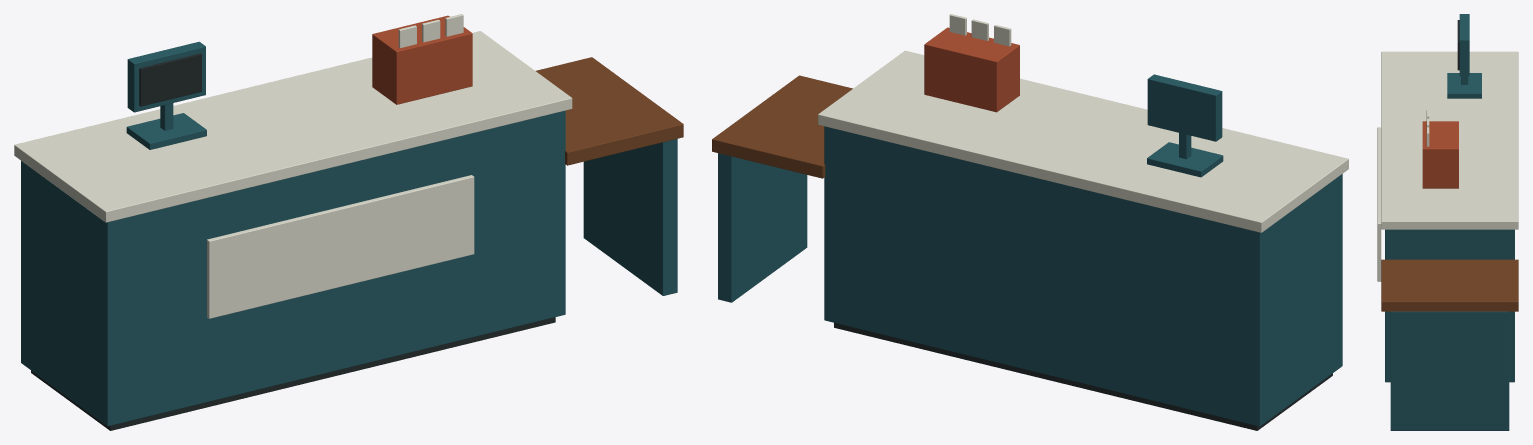
File: community-club-reception.glb
3 views of the same model, side by side, from view 1: azimuth 30°, elevation 25°; view 2: azimuth 150°, elevation 25°; view 3: azimuth 270°, elevation 25° (orthographic). The views are drawn at different scales.
Visible parts, largest first — view 1: Counter_Body, Worktop, Replaceable_Community_Panel, Accessible_Leg, Accessible_Desk, Brochure_Holder, Counter_Base, Screen, Screen_Housing, Terminal_Foot; view 2: Counter_Body, Worktop, Accessible_Leg, Accessible_Desk, Brochure_Holder, Screen_Housing, Counter_Base, Terminal_Foot; view 3: Worktop, Accessible_Leg, Accessible_Desk, Counter_Body, Brochure_Holder, Terminal_Foot, Replaceable_Community_Panel, Screen_Housing, Screen.
Part boxes in pixels (x1=…): Counter_Body: x1=21, y1=110, x2=565, y2=426; Worktop: x1=14, y1=31, x2=572, y2=222; Replaceable_Community_Panel: x1=207, y1=175, x2=474, y2=318; Accessible_Leg: x1=583, y1=139, x2=677, y2=295; Accessible_Desk: x1=536, y1=57, x2=683, y2=165; Brochure_Holder: x1=372, y1=15, x2=472, y2=104; Counter_Base: x1=31, y1=317, x2=555, y2=430; Screen: x1=139, y1=53, x2=201, y2=106; Screen_Housing: x1=127, y1=41, x2=205, y2=112; Terminal_Foot: x1=126, y1=113, x2=206, y2=149; Counter_Body: x1=824, y1=126, x2=1342, y2=426; Worktop: x1=818, y1=50, x2=1348, y2=232; Accessible_Leg: x1=718, y1=153, x2=807, y2=302; Accessible_Desk: x1=712, y1=75, x2=852, y2=178; Brochure_Holder: x1=924, y1=27, x2=1019, y2=112; Screen_Housing: x1=1147, y1=74, x2=1222, y2=141; Counter_Base: x1=834, y1=323, x2=1332, y2=430; Terminal_Foot: x1=1147, y1=142, x2=1223, y2=177; Worktop: x1=1381, y1=51, x2=1518, y2=229; Accessible_Leg: x1=1390, y1=311, x2=1509, y2=430; Accessible_Desk: x1=1381, y1=259, x2=1518, y2=311; Counter_Body: x1=1385, y1=229, x2=1514, y2=382; Brochure_Holder: x1=1422, y1=121, x2=1458, y2=188; Terminal_Foot: x1=1447, y1=73, x2=1481, y2=98; Replaceable_Community_Panel: x1=1377, y1=127, x2=1381, y2=281; Screen_Housing: x1=1459, y1=14, x2=1469, y2=76; Screen: x1=1457, y1=20, x2=1459, y2=70.
Size of the model in its own units: 2.73 by 1.43 by 0.772.
